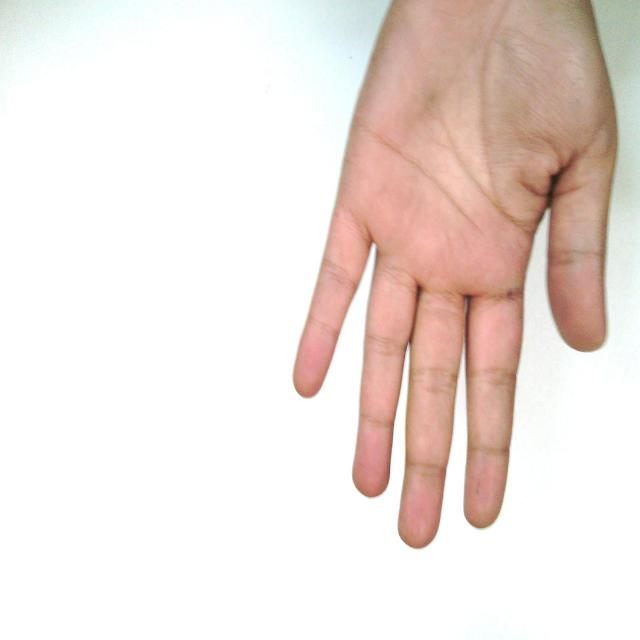others: (260, 1, 632, 569)
